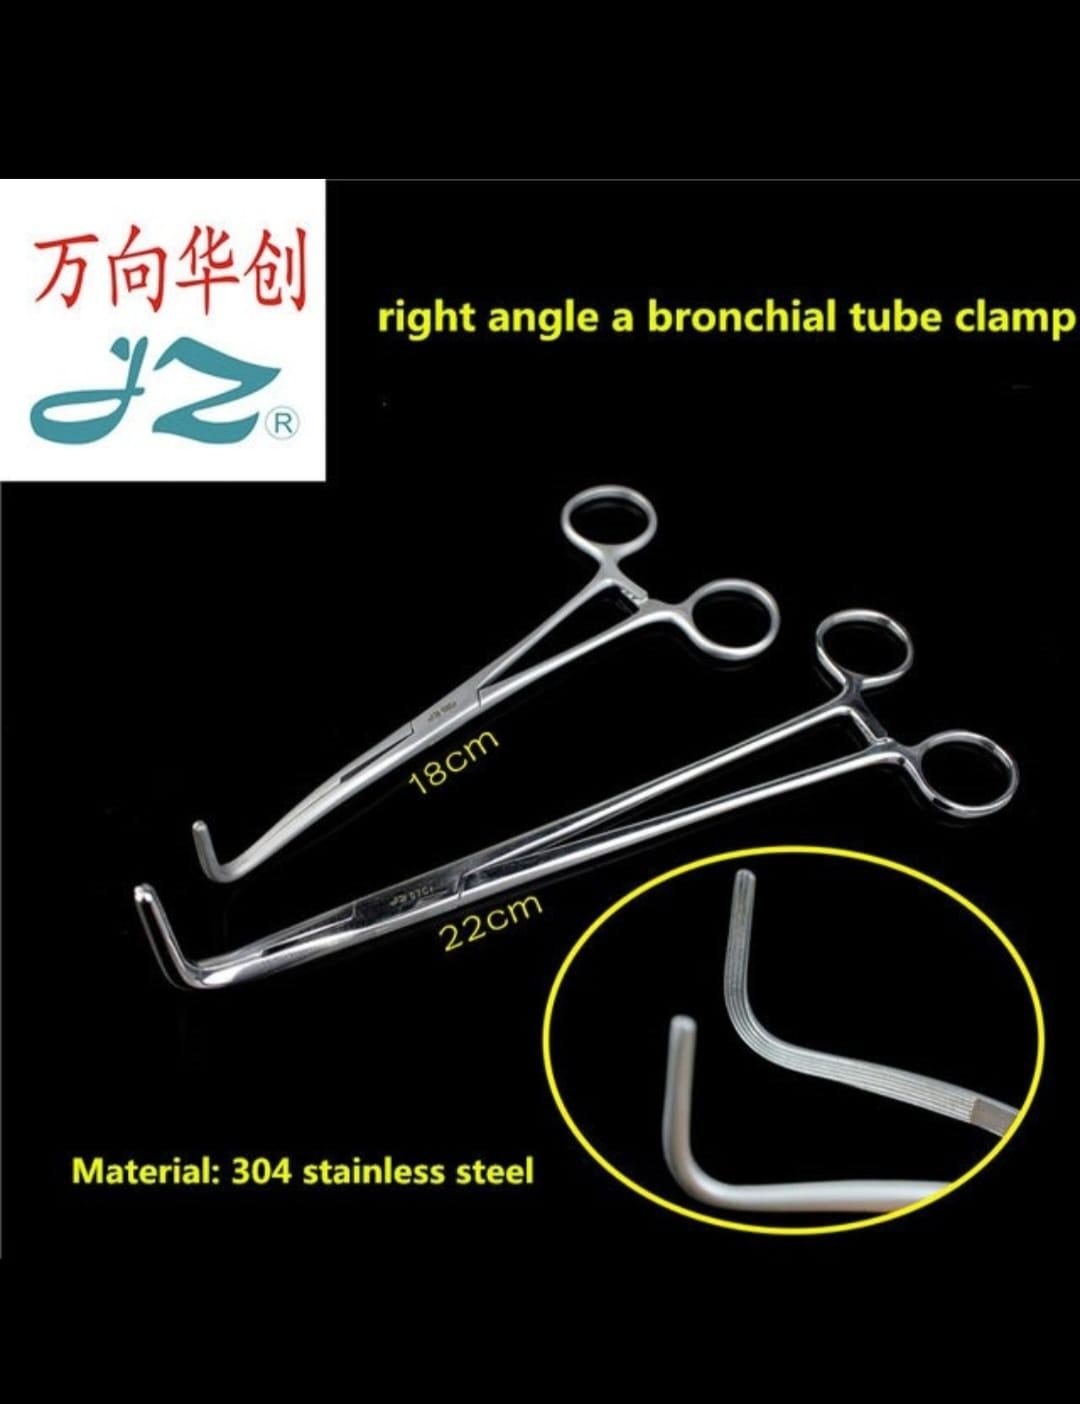Rectangle Cholecystectomy Forceps: (120, 612, 1028, 993), (194, 480, 778, 886)
